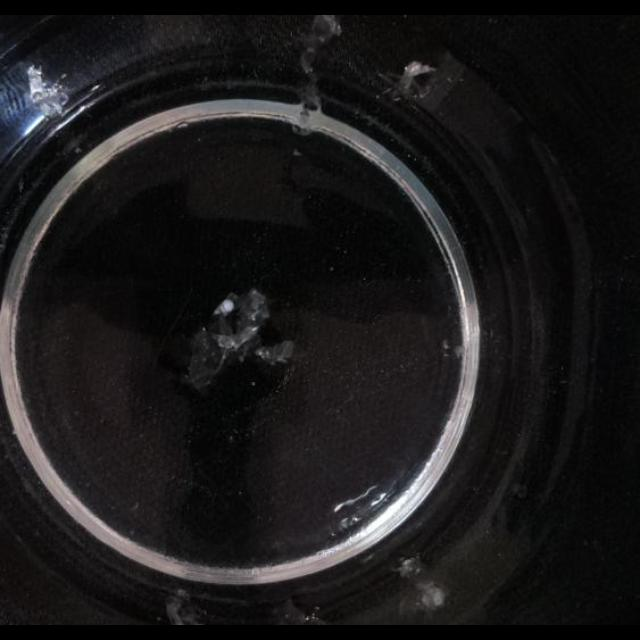Fibre: (180, 285, 290, 393), (296, 15, 342, 75), (397, 570, 447, 616), (27, 66, 69, 116), (393, 60, 435, 96), (296, 79, 324, 127), (165, 592, 199, 624), (276, 598, 316, 624), (396, 557, 424, 579)
microbeads: (442, 336, 466, 359)
